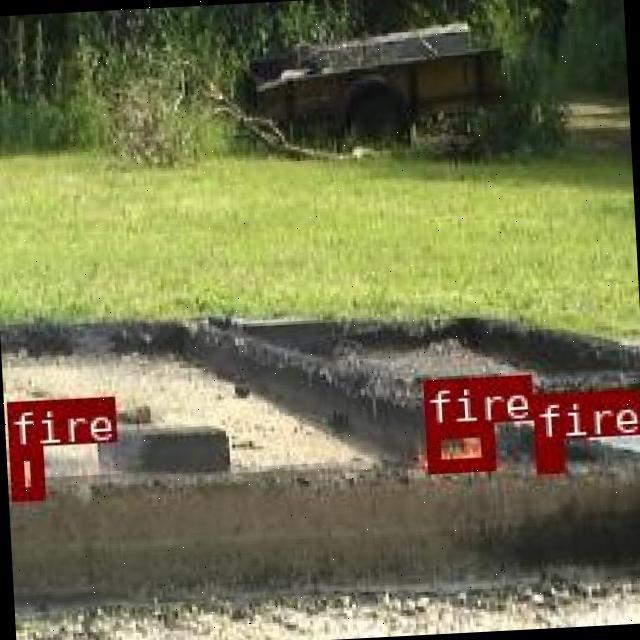fire: (425, 422, 492, 472), (7, 446, 43, 500), (534, 438, 562, 470)
